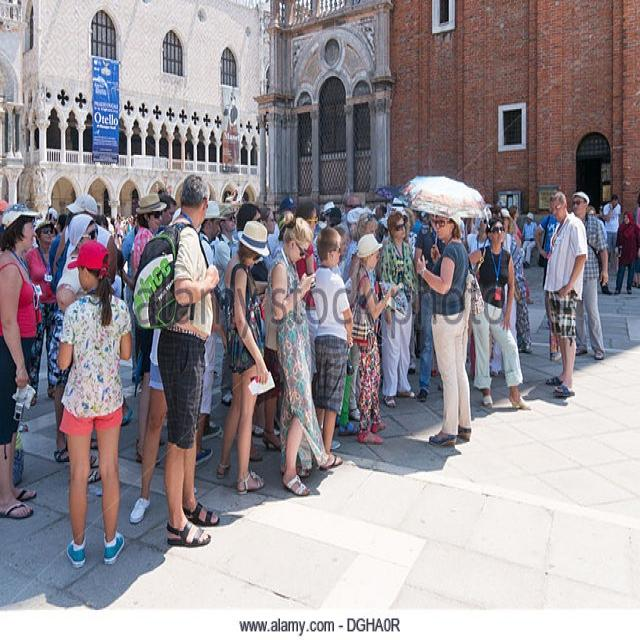body: (0, 162, 531, 257), (130, 170, 223, 550), (54, 240, 135, 574), (268, 208, 332, 502), (214, 216, 271, 496), (415, 201, 473, 449), (462, 214, 533, 413), (0, 200, 41, 522), (308, 221, 355, 472), (348, 230, 397, 448), (542, 188, 589, 400), (129, 193, 164, 467), (379, 208, 416, 409), (569, 188, 610, 362), (25, 217, 58, 409), (54, 211, 100, 319), (533, 190, 561, 288), (613, 207, 639, 296), (601, 191, 622, 275), (520, 209, 539, 270), (509, 207, 523, 250), (631, 247, 640, 288), (599, 278, 613, 296), (635, 189, 640, 227), (596, 204, 605, 225), (597, 250, 603, 280), (587, 204, 596, 215)
